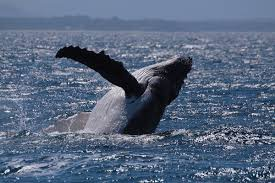humpback: (86, 54, 193, 132)
